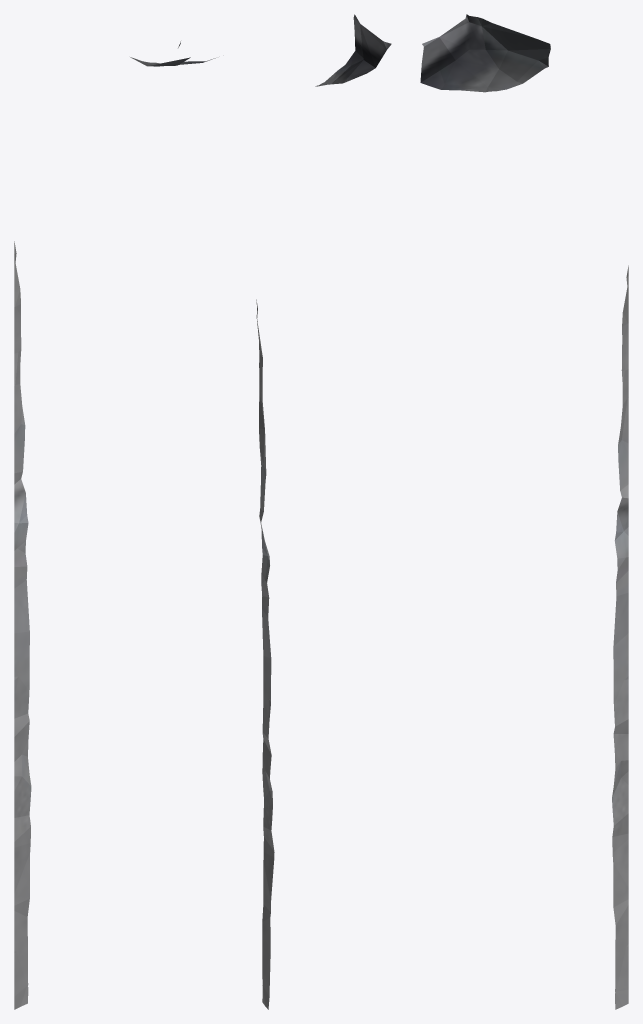
The picture shows the model from 3 angles, left to right: view 1: azimuth 90°, elevation 25°; view 2: azimuth 150°, elevation 25°; view 3: azimuth 270°, elevation 25°; orthographic projection. The views are drawn at different scales.
Size of the model in its own units: 0.0557 by 0.8374 by 0.1634.
Materials: 1 (1 with a texture image).
